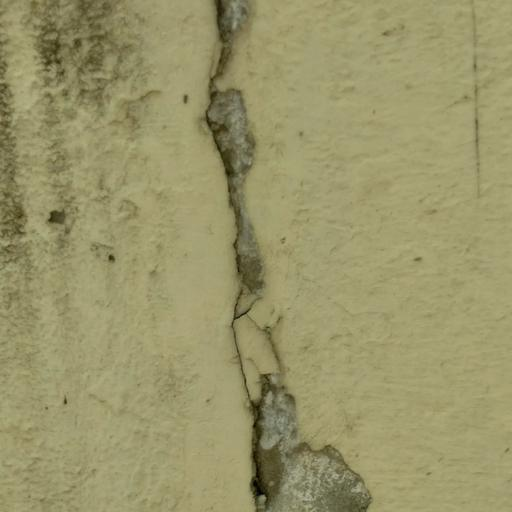major_crack: (193, 0, 386, 512)
